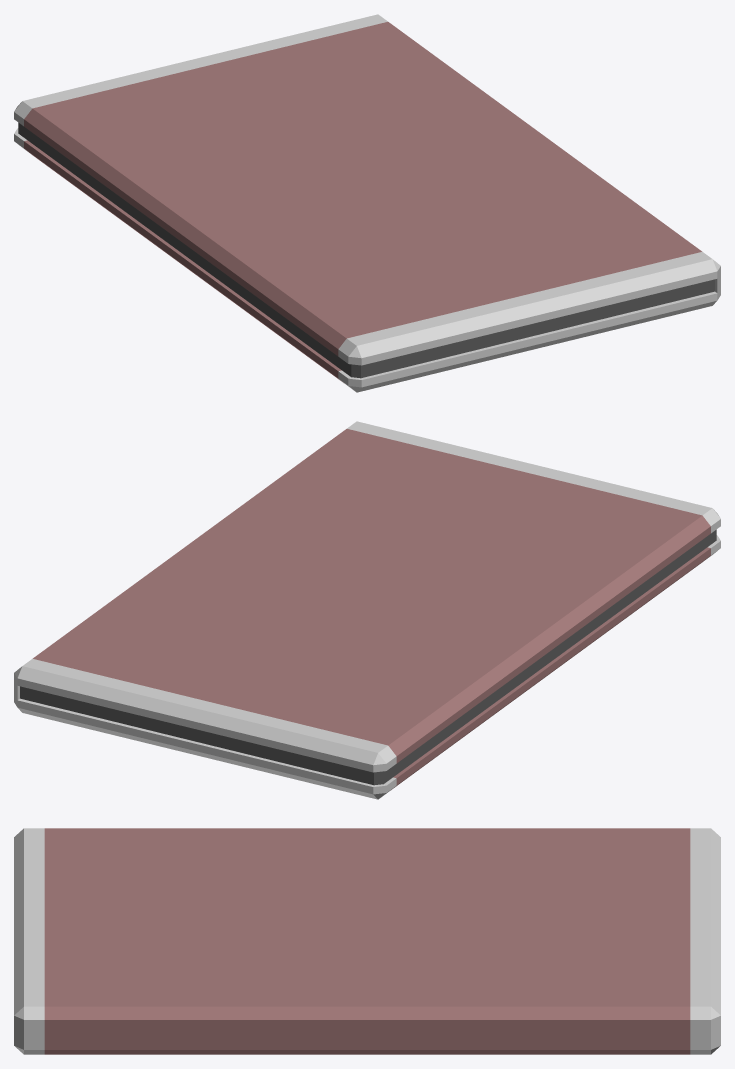
File: Disk.fbx
3 renders of one model, top to bottom at view 1: azimuth 30°, elevation 25°; view 2: azimuth 150°, elevation 25°; view 3: azimuth 270°, elevation 25°, orthographic. The views are drawn at different scales.
Visible parts, largest first — view 1: pCube1; view 2: pCube1; view 3: pCube1.
Part boxes in pixels (x1,y1,x2,y2): pCube1: (14, 14, 720, 392); pCube1: (14, 421, 720, 799); pCube1: (14, 828, 720, 1054).
Bounding box in the file's own units: 0.625 × 0.075 × 1.
